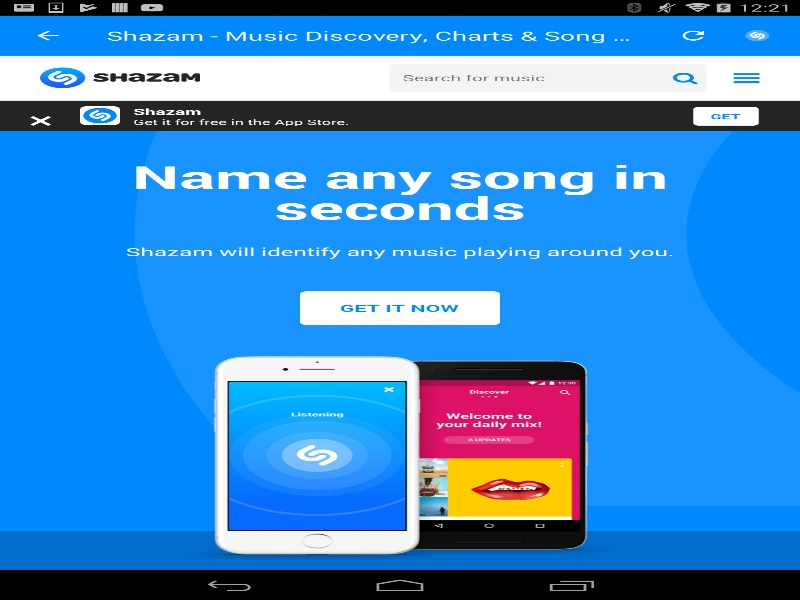Button: (10, 15, 85, 55), (664, 71, 706, 85)
Input: (389, 63, 706, 93)
